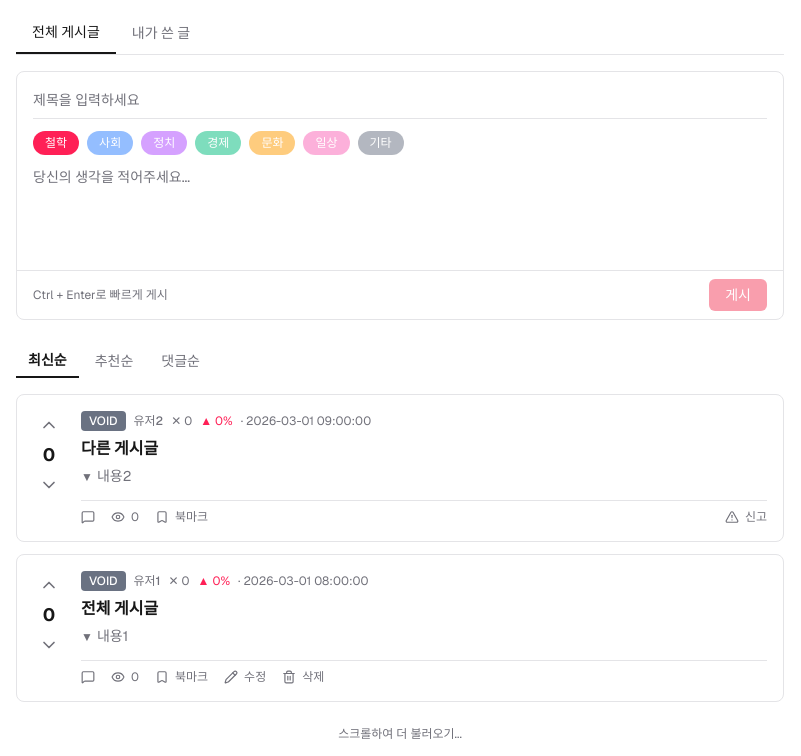
Body - 내가 쓴 게시글 기능 › 내 게시글이 없으면 빈 상태 안내가 표시되어야 한다
The image size is (801, 756).
Expected: the button "전체 게시글" is shown, x1=16 y1=12 x2=116 y2=54
Click the button "내가 쓴 글". click: (161, 33)
box: x1=116 y1=12 x2=206 y2=54
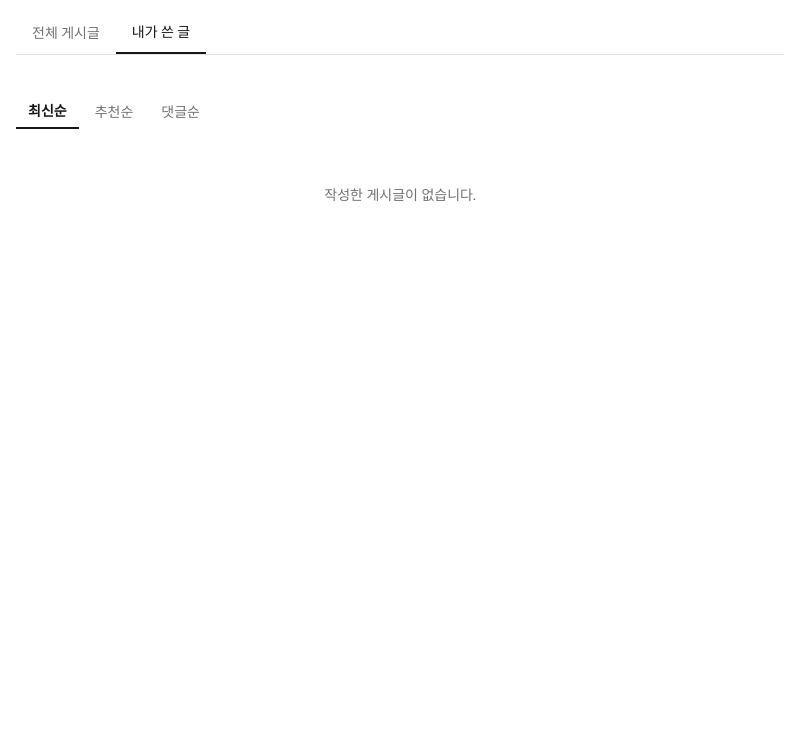
Expected: the text "작성한 게시글이 없습니다." is shown, x1=324 y1=186 x2=476 y2=204
